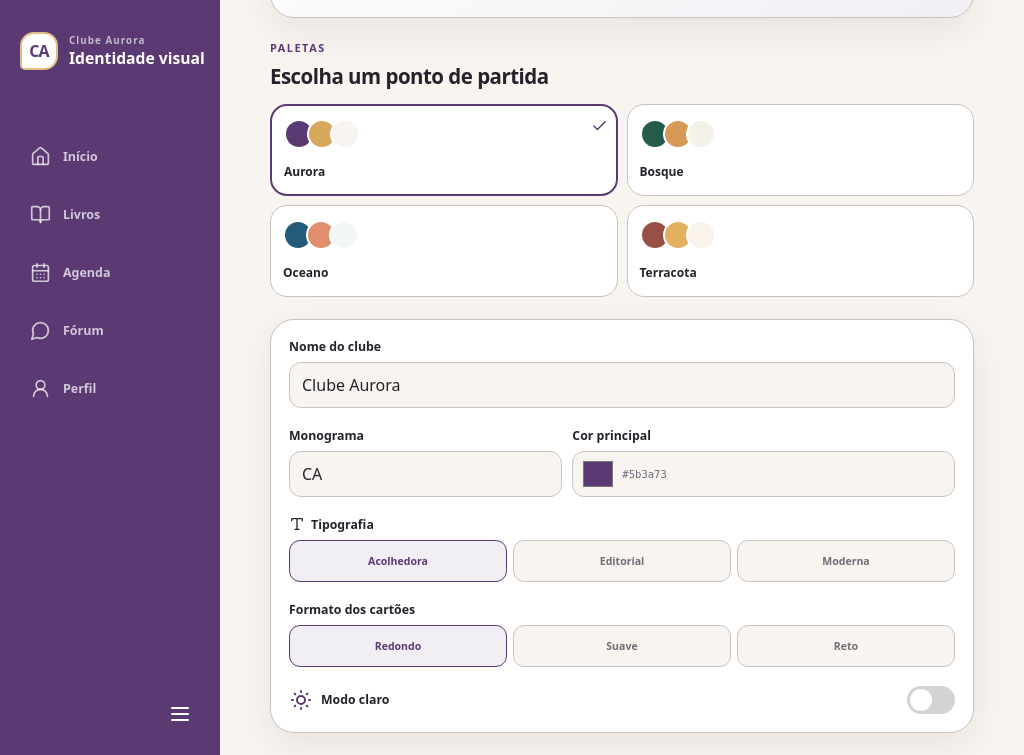
it: protótipo do Clube do Livro › aplica e persiste uma personalização de nome do clube
(page scrolled)
Replace the text in the field labelled "Nome do clube" with "Clube Ipê" at coordinates (622, 385), box x1=289 y1=362 x2=955 y2=408
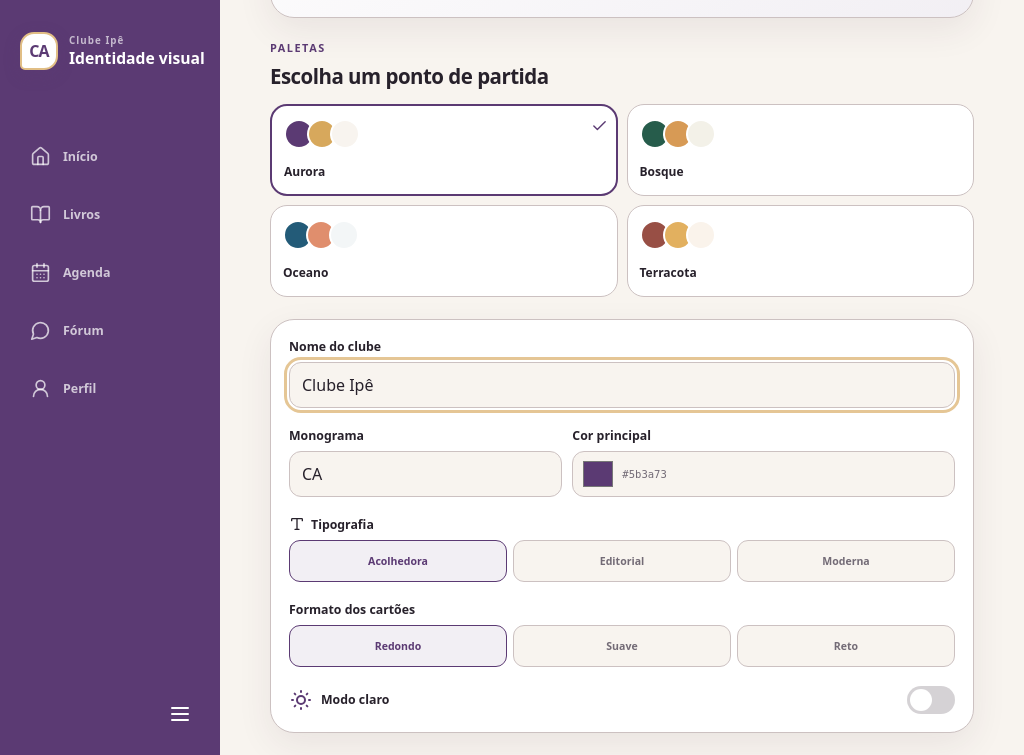
expect the text "Clube Ipê" is shown 2 times: met
